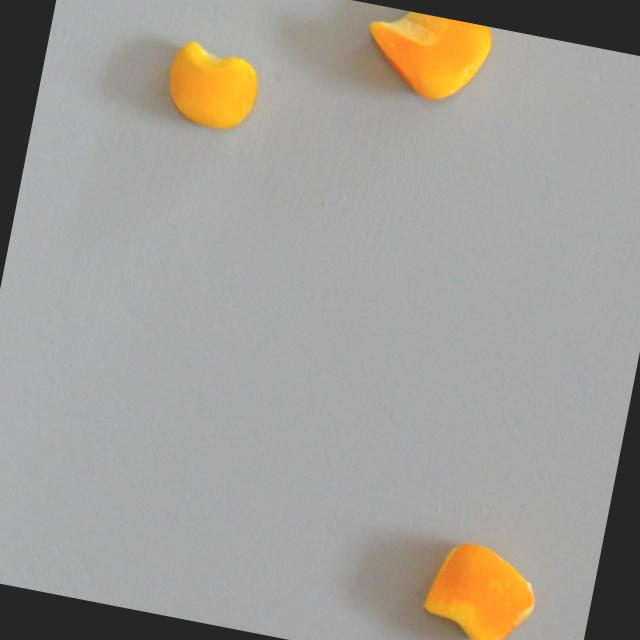no_canjicado: (355, 4, 496, 113), (157, 34, 265, 138)
pelicula: (414, 533, 545, 640)
